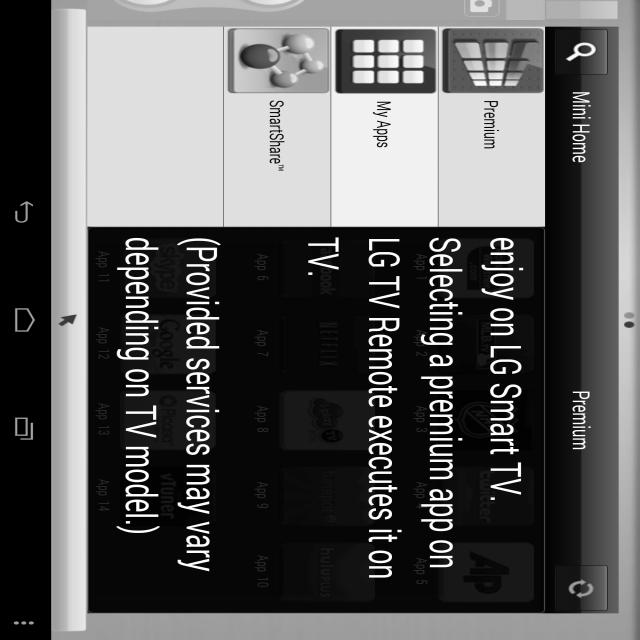Button: (0, 59, 32, 346), (0, 14, 32, 59)
ImageButton: (10, 344, 640, 370), (46, 20, 120, 53)
ImageView: (376, 63, 483, 130), (376, 162, 483, 229), (498, 63, 604, 130), (498, 162, 604, 229), (376, 262, 483, 328), (498, 262, 604, 328), (45, 60, 149, 125), (46, 127, 150, 192), (45, 194, 149, 259), (619, 63, 640, 130), (619, 162, 640, 229), (619, 262, 640, 328), (497, 3, 512, 10), (512, 3, 527, 10)
TextView: (362, 59, 640, 345), (46, 26, 359, 46), (366, 26, 640, 46), (149, 84, 359, 101), (149, 218, 359, 235), (150, 151, 358, 168), (523, 328, 579, 341), (402, 328, 457, 341), (406, 229, 453, 242), (528, 229, 574, 242), (406, 130, 453, 142), (528, 130, 574, 142)
